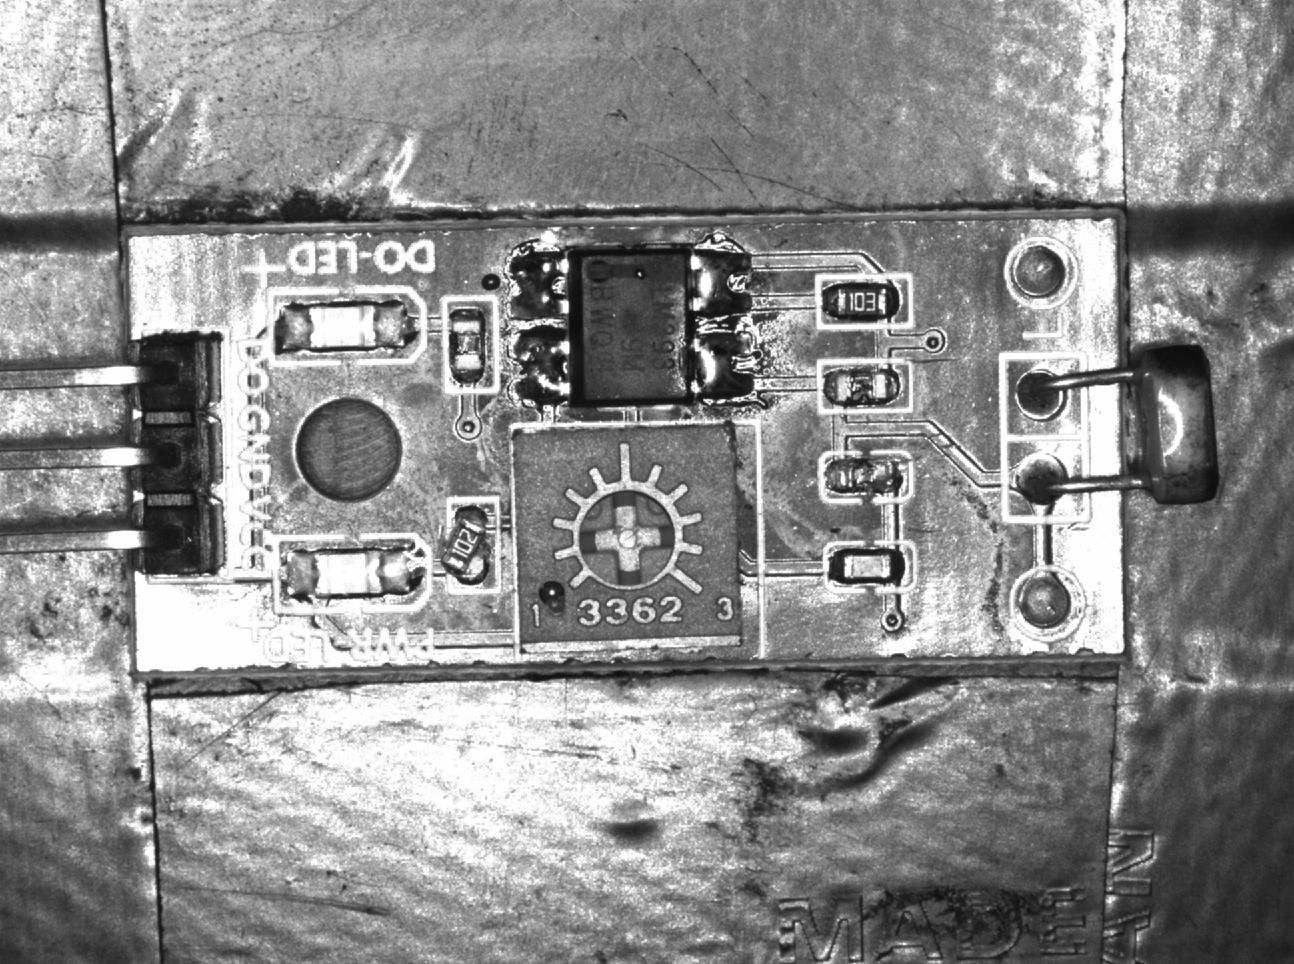bridge: (691, 332, 759, 405), (507, 330, 571, 407), (691, 244, 753, 322), (513, 250, 568, 321)
lifted: (446, 496, 502, 593)
miss: (443, 297, 498, 392), (815, 451, 912, 501), (819, 361, 910, 410)
ok: (1002, 354, 1088, 521), (818, 277, 916, 329), (823, 542, 916, 592)
